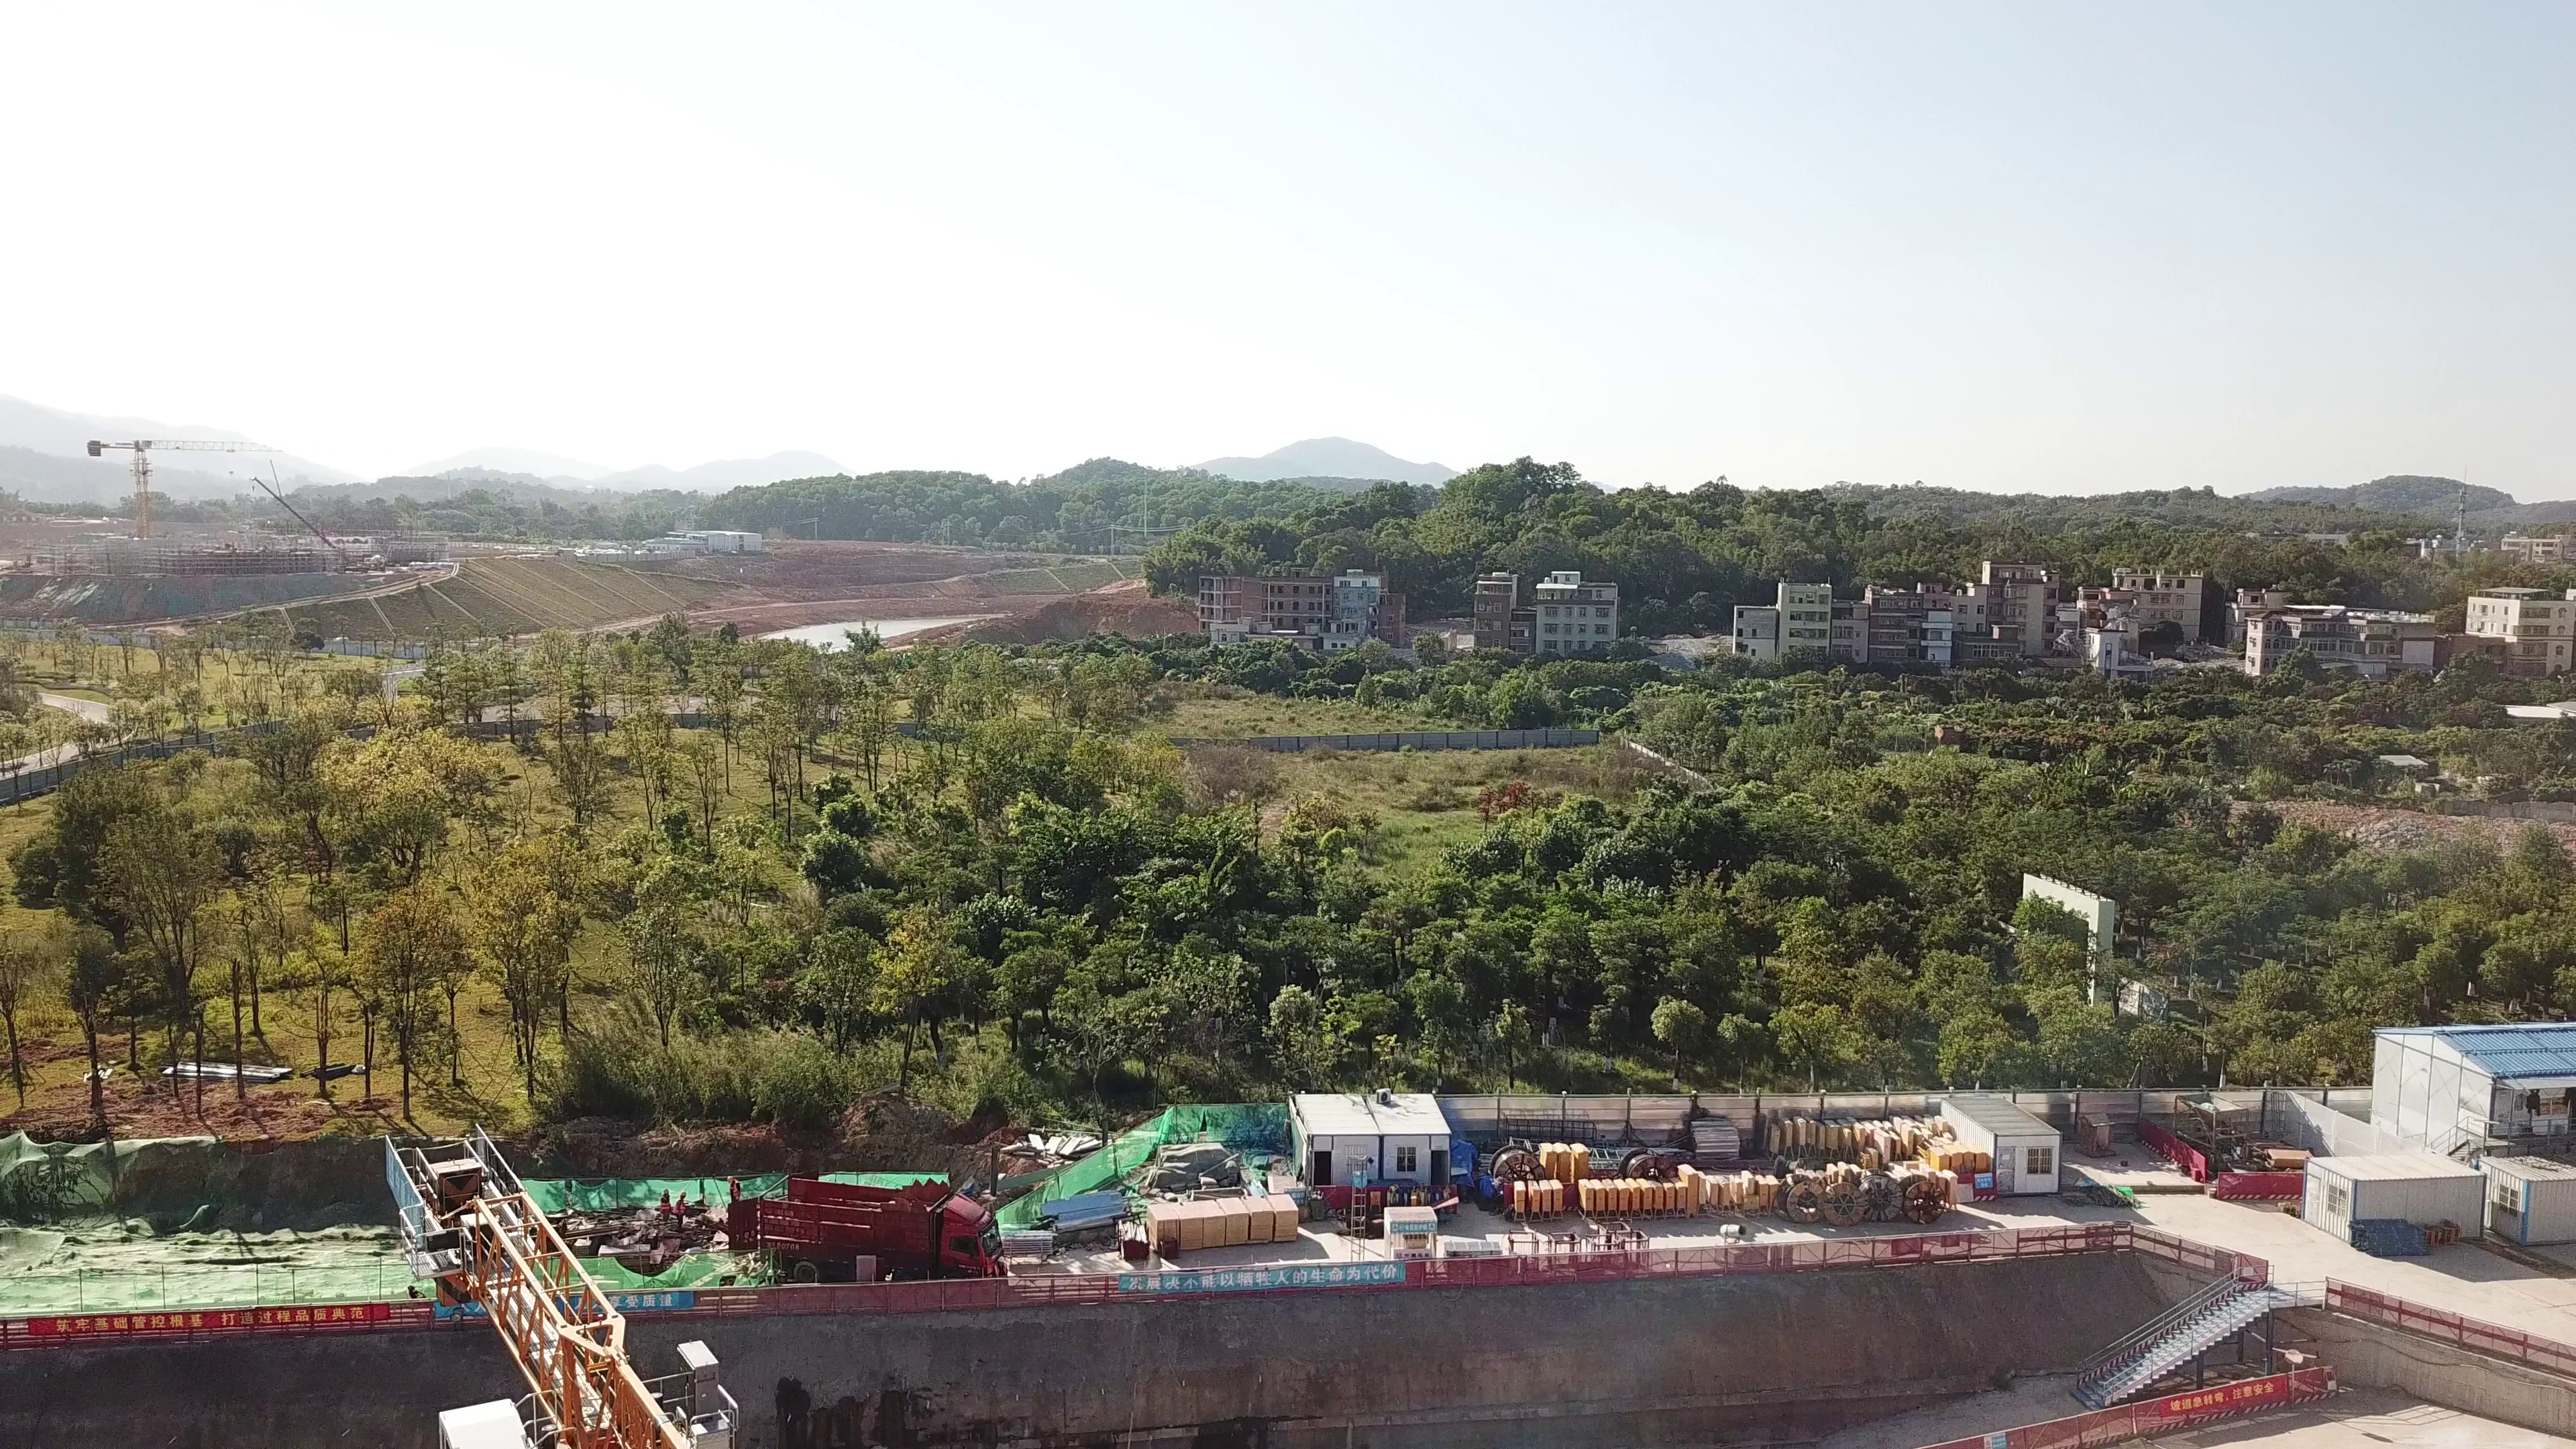fence: (1456, 1092, 2247, 1161), (869, 1270, 1840, 1309)
helmet: (678, 1191, 688, 1200), (661, 1188, 669, 1195), (728, 1175, 733, 1184)
person: (673, 1189, 690, 1230), (656, 1184, 673, 1227), (724, 1175, 745, 1201)
scaffold: (1111, 1216, 1150, 1260), (1000, 1230, 1059, 1254)
slogan: (42, 1297, 396, 1331), (1123, 1258, 1406, 1291), (454, 1284, 700, 1316)
vest: (674, 1199, 688, 1217), (729, 1181, 741, 1199), (660, 1195, 670, 1212)
wood: (1154, 1199, 1320, 1252)
